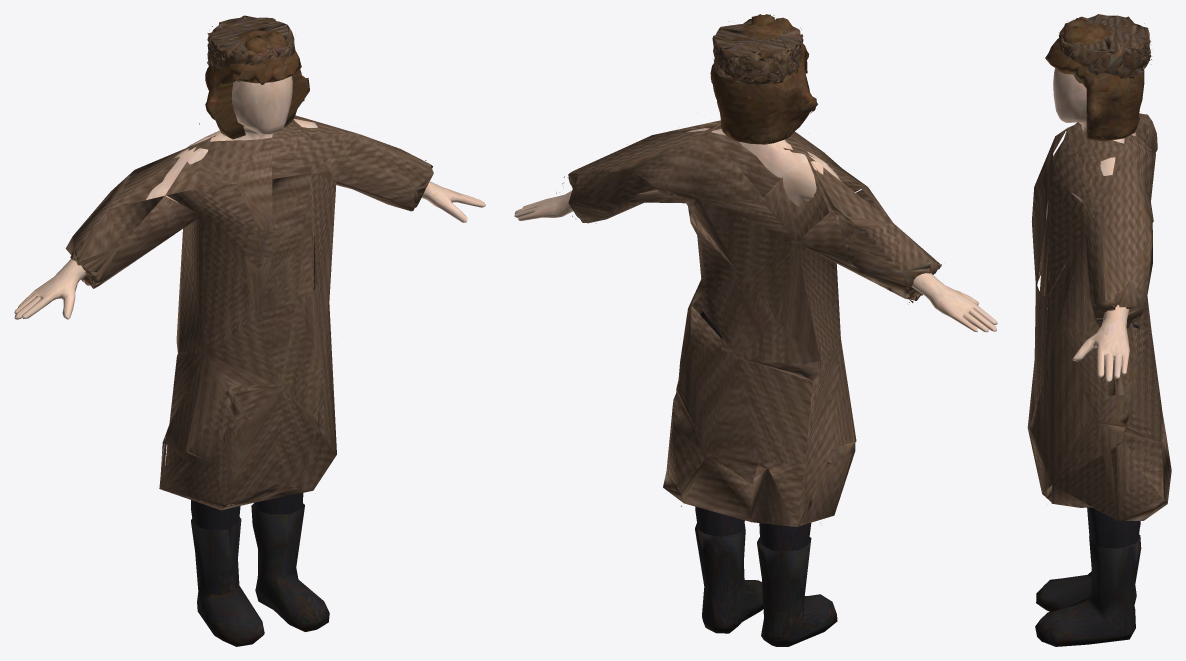
Rendered from npc_x_woman_w1.glb.
The picture shows the model from 3 angles, left to right: view 1: azimuth 30°, elevation 25°; view 2: azimuth 150°, elevation 25°; view 3: azimuth 270°, elevation 25°; orthographic projection. The views are drawn at different scales.
Visible parts, largest first — view 1: Human; view 2: Human; view 3: Human.
Boxes of the visible parts, x1,y1,x2,y2 form: Human: [14, 15, 485, 646]; Human: [514, 14, 997, 646]; Human: [1027, 14, 1171, 646].
Size of the model in its own units: 1.43 by 1.72 by 0.3775.
Materials: 1 (1 with a texture image).
